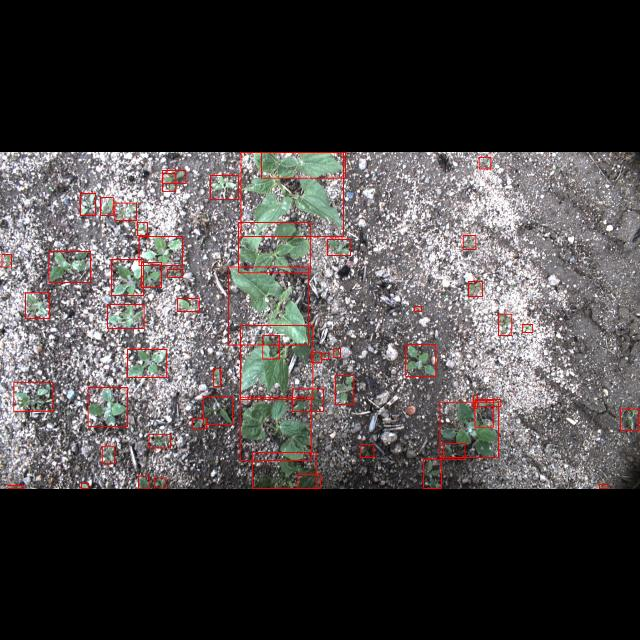crop: (241, 152, 343, 236), (228, 266, 308, 344), (240, 325, 314, 399), (240, 396, 310, 460), (238, 222, 310, 272), (252, 452, 316, 488), (262, 151, 346, 177), (298, 474, 320, 488)
weed: (439, 401, 498, 457), (88, 388, 128, 427), (49, 250, 91, 282), (139, 236, 183, 264), (111, 259, 143, 295), (13, 382, 52, 411), (127, 349, 167, 377), (406, 344, 436, 376), (108, 304, 144, 328), (204, 396, 232, 424), (292, 388, 324, 412), (210, 174, 238, 198), (26, 292, 50, 318), (336, 374, 354, 404), (423, 459, 441, 489), (475, 399, 493, 426), (141, 262, 161, 286), (114, 202, 136, 220), (620, 408, 638, 430), (263, 335, 279, 359), (80, 192, 96, 214), (328, 238, 350, 254), (444, 443, 464, 459), (178, 297, 198, 311), (150, 434, 170, 448), (498, 314, 512, 334), (162, 170, 185, 182), (162, 172, 176, 190), (100, 197, 114, 215), (102, 446, 115, 464), (468, 280, 482, 296), (360, 444, 374, 458), (462, 234, 476, 248), (476, 399, 500, 406), (136, 222, 148, 234), (138, 476, 150, 488), (479, 156, 491, 168), (192, 418, 206, 428), (213, 368, 220, 387), (2, 254, 12, 266), (154, 478, 166, 488), (168, 269, 182, 277), (311, 352, 321, 362), (523, 324, 533, 332), (8, 484, 24, 488), (334, 348, 341, 357), (473, 394, 477, 408), (322, 353, 328, 359), (600, 484, 608, 488), (414, 306, 422, 310), (82, 484, 88, 488)
